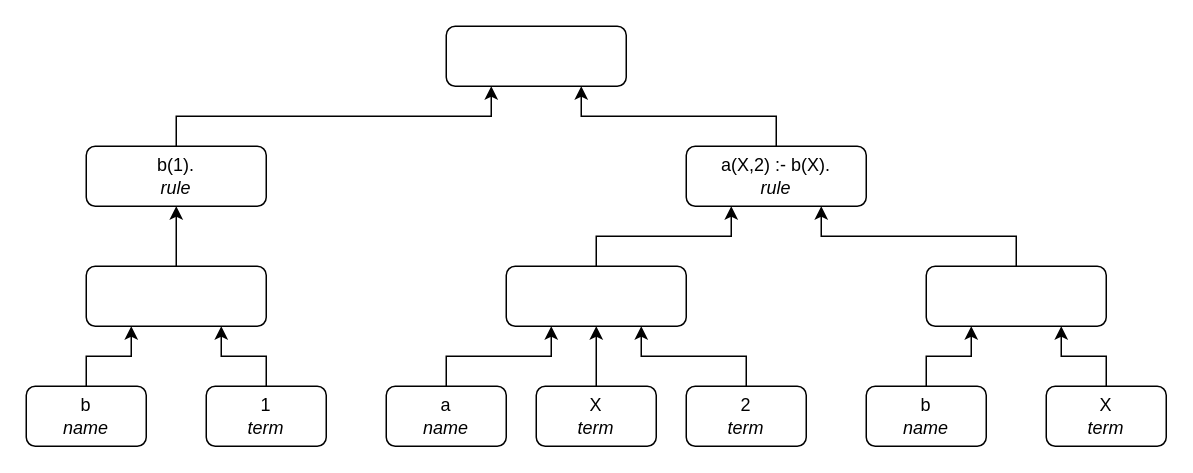
Some shapes in this 1193 by 473 pixel diagram are drawn without their labels. The box of each missing label's shape, as (x1, y1, x2, y2) in pixels:
a(X,2) literal (head): (505, 265, 686, 326)
b(1) literal: (85, 265, 266, 326)
b(1). a(X,2) :- b(X).: (445, 25, 626, 86)
b(X) literal (body): (925, 265, 1106, 326)
